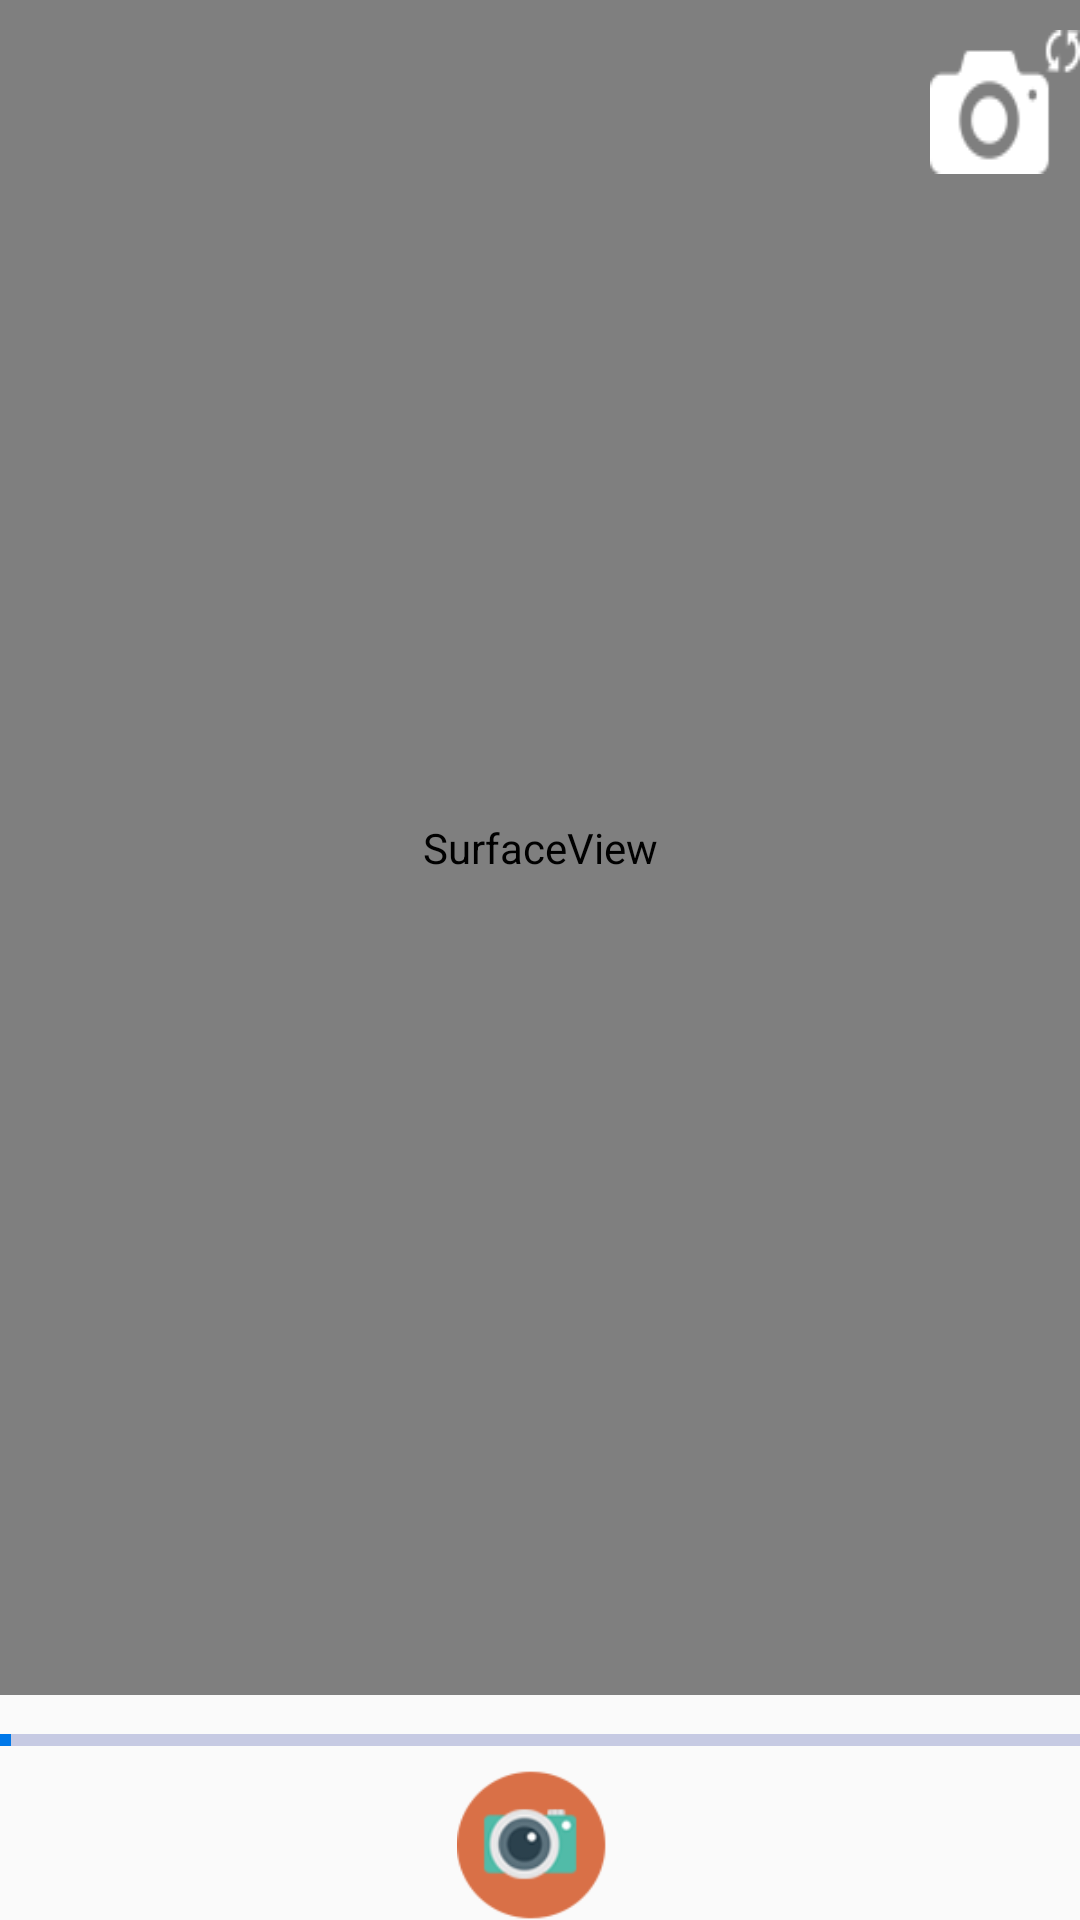

Named icons in this screenshot (1080px×1920px) and their bounding boxes, [left=x1, top=y1, right=x2, bottom=y2]:
camera: [left=457, top=1771, right=606, bottom=1919]
rotate camera: [left=930, top=30, right=1080, bottom=174]
